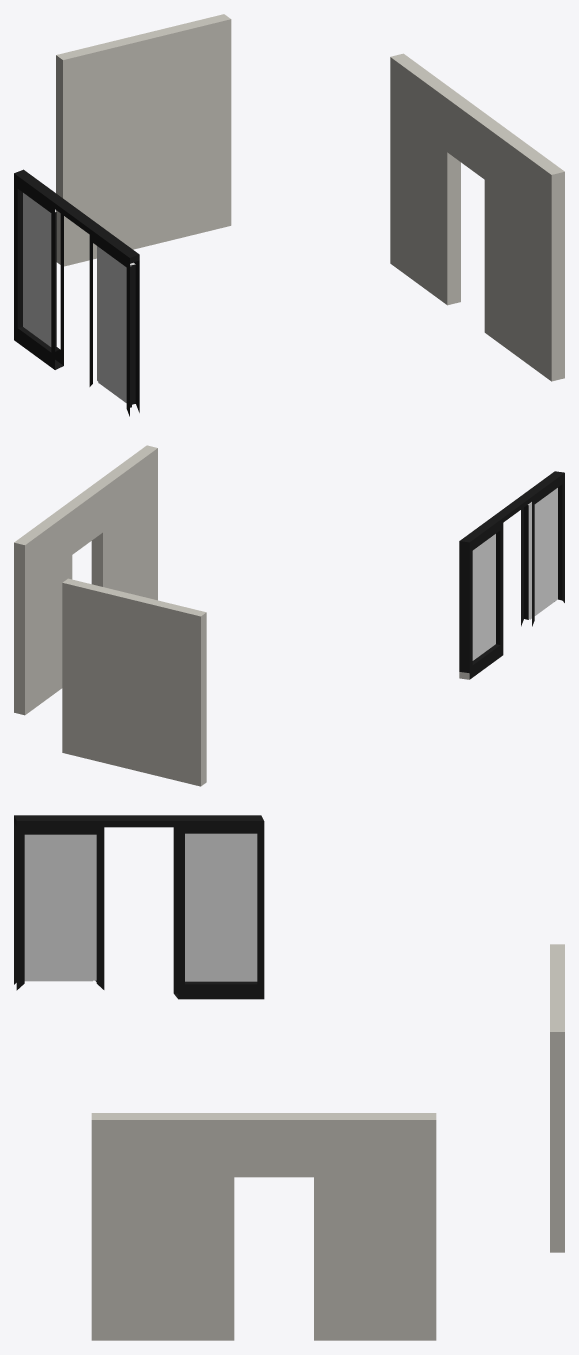
Rendered from dundermifflin (2).fbx.
3 views of the same model, one above another, from view 1: azimuth 30°, elevation 25°; view 2: azimuth 150°, elevation 25°; view 3: azimuth 270°, elevation 25° (orthographic). The views are drawn at different scales.
Visible parts, largest first — view 1: Plane.026, Plane.025, Plane.000; view 2: Plane.026, Plane.025, Plane.000; view 3: Plane.025, Plane.000, Plane.026.
Part boxes in pixels (x1,y1,x2,y2): Plane.026: (56,14,231,266); Plane.025: (390,53,564,381); Plane.000: (14,169,139,416); Plane.026: (62,578,206,786); Plane.025: (14,445,157,715); Plane.000: (459,471,564,679); Plane.025: (91,1113,436,1340); Plane.000: (14,815,264,999); Plane.026: (550,944,564,1252).
Bounding box in the file's own units: 460 × 244 × 436.
